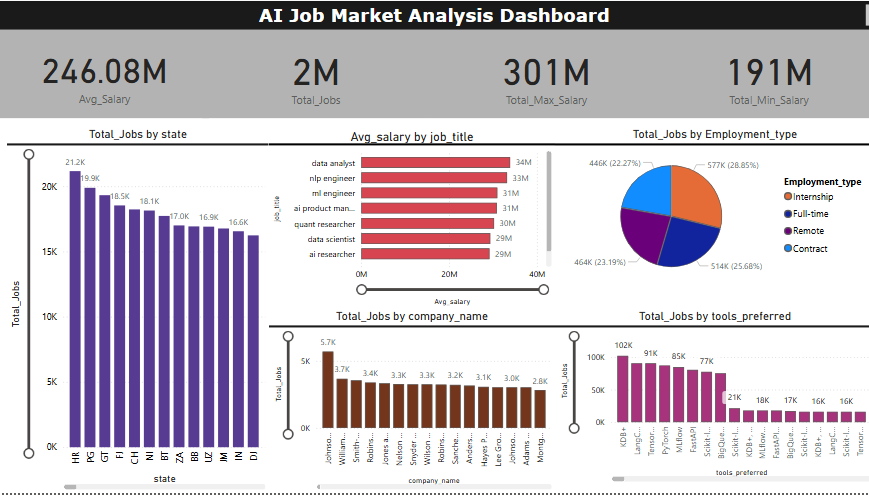

What the dashboard file says about the page in this screenshot:
{"tool":"powerbi","page":{"name":"Page 1","canvas":[1280,720],"ordinal":0},"visuals":[{"type":"card","fields":{"Values":["cleaned_ai_job_market.avg_salary"]},"box":[0,42.4,305.9,128.8],"z":0},{"type":"card","fields":{"Values":["cleaned_ai_job_market.job_id"]},"box":[295.6,42.4,333.7,128.8],"z":1000},{"type":"card","fields":{"Values":["cleaned_ai_job_market.max_salary"]},"box":[629.3,42.4,341,128.8],"z":2000},{"type":"card","fields":{"Values":["cleaned_ai_job_market.min_salary"]},"box":[970.2,42.4,310.2,128.8],"z":3000},{"type":"textbox","box":[0,0,1280.5,42.4],"z":4000},{"type":"barChart","fields":{"Y":["cleaned_ai_job_market.avg_salary"],"Category":["cleaned_ai_job_market.job_title"]},"box":[393.7,187.3,418.5,263.4],"z":5000},{"type":"columnChart","fields":{"Y":["cleaned_ai_job_market.job_id"],"Category":["cleaned_ai_job_market.state"]},"box":[10.2,184.4,383.4,535.6],"z":6000},{"type":"clusteredColumnChart","fields":{"Y":["cleaned_ai_job_market.job_id"],"Category":["cleaned_ai_job_market.company_name"]},"box":[393.7,450.7,418.5,269.3],"z":6001},{"type":"pieChart","fields":{"Category":["cleaned_ai_job_market.employment_type"],"Y":["cleaned_ai_job_market.job_id"]},"box":[812.2,184.4,468.3,234.1],"z":6002},{"type":"lineStackedColumnComboChart","fields":{"Y":["cleaned_ai_job_market.job_id"],"Category":["cleaned_ai_job_market.tools_preferred"]},"box":[812.2,450.7,468.3,257.6],"z":6003}]}

Visuals, with their boxes in screenshot pixels (x1, y1, x2, y2), scaled from the page's 1280x720 canvas onto the 869x495 screenshot:
card - cleaned_ai_job_market.avg_salary: [0,29,208,118]
card - cleaned_ai_job_market.job_id: [201,29,427,118]
card - cleaned_ai_job_market.max_salary: [427,29,659,118]
card - cleaned_ai_job_market.min_salary: [659,29,868,118]
textbox: [0,0,868,29]
barChart - cleaned_ai_job_market.avg_salary x cleaned_ai_job_market.job_title: [267,129,551,310]
columnChart - cleaned_ai_job_market.job_id x cleaned_ai_job_market.state: [7,127,267,494]
clusteredColumnChart - cleaned_ai_job_market.job_id x cleaned_ai_job_market.company_name: [267,310,551,494]
pieChart - cleaned_ai_job_market.employment_type x cleaned_ai_job_market.job_id: [551,127,868,288]
lineStackedColumnComboChart - cleaned_ai_job_market.job_id x cleaned_ai_job_market.tools_preferred: [551,310,868,487]
